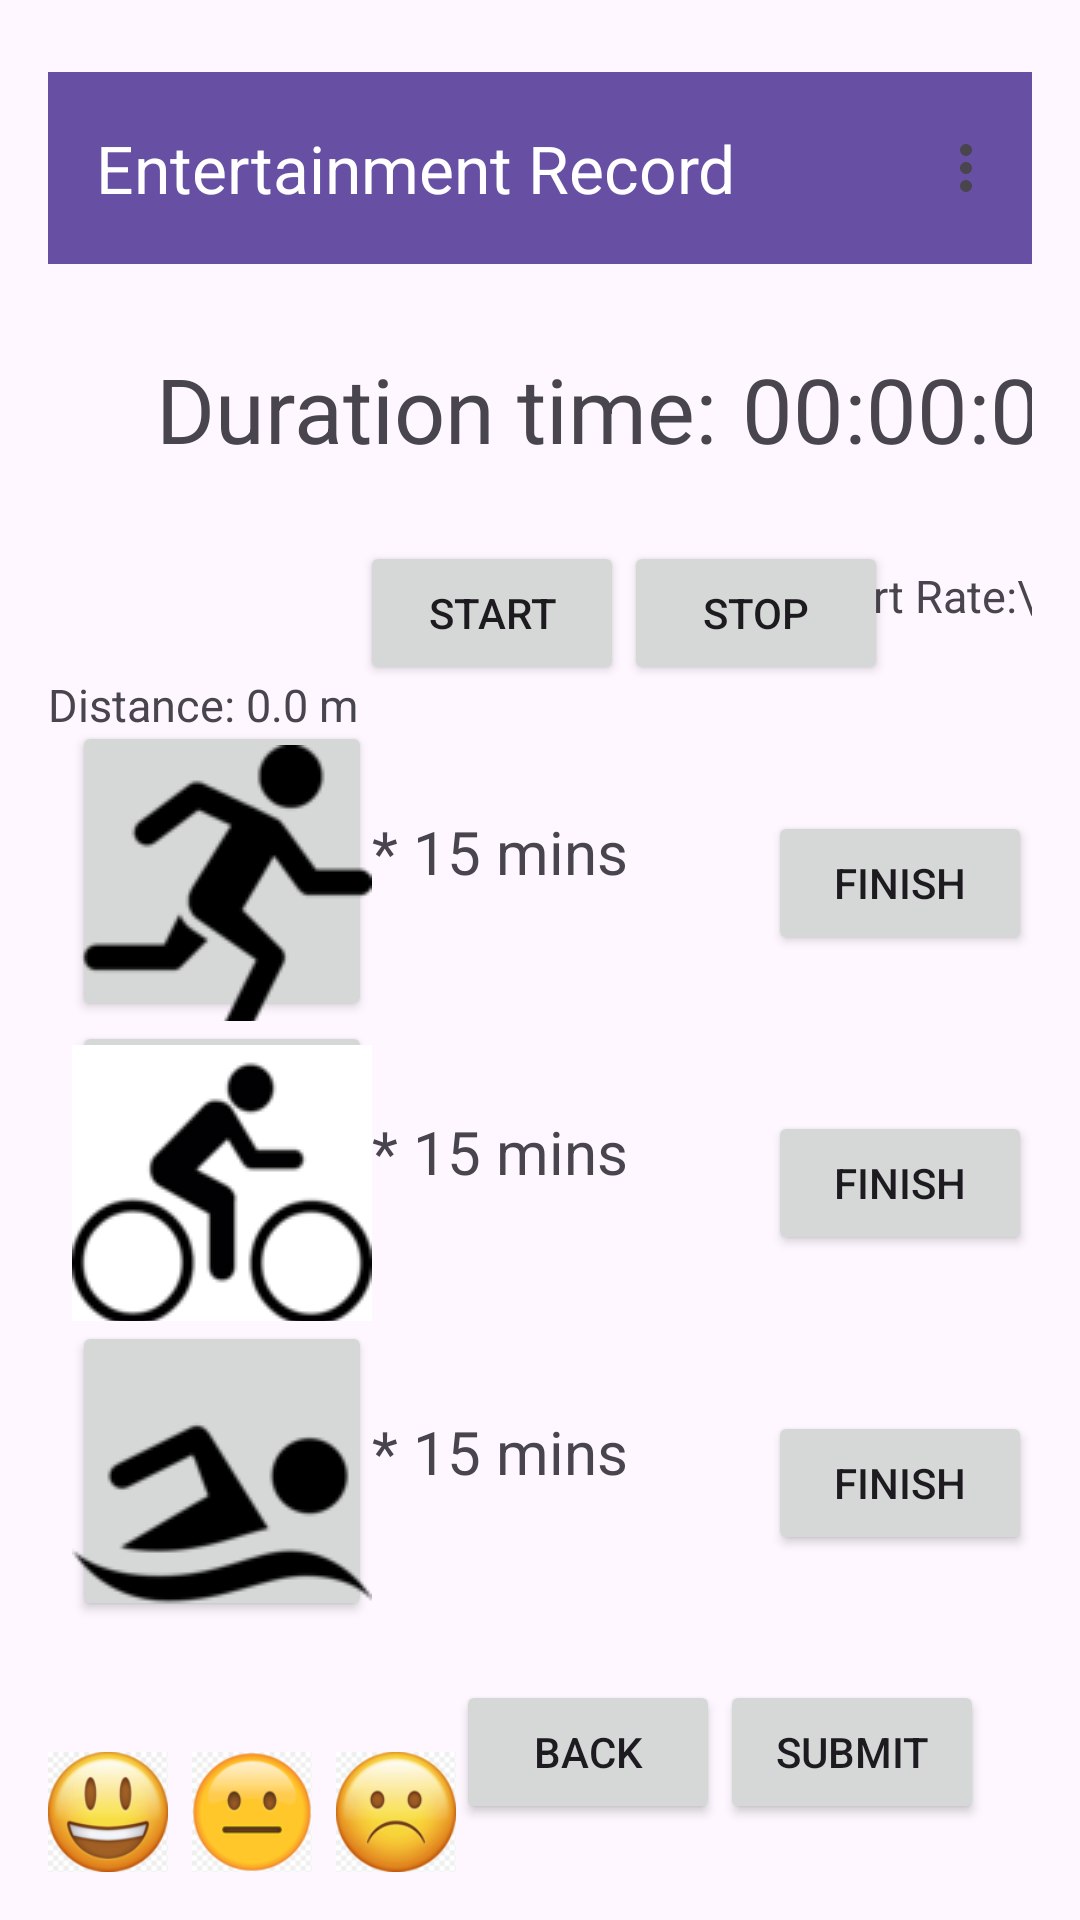

Screen size 1080×1920. Icon name, then its center in pixels as (x,y):
bad: (396,1812)
happy: (108,1812)
neutral: (252,1812)
